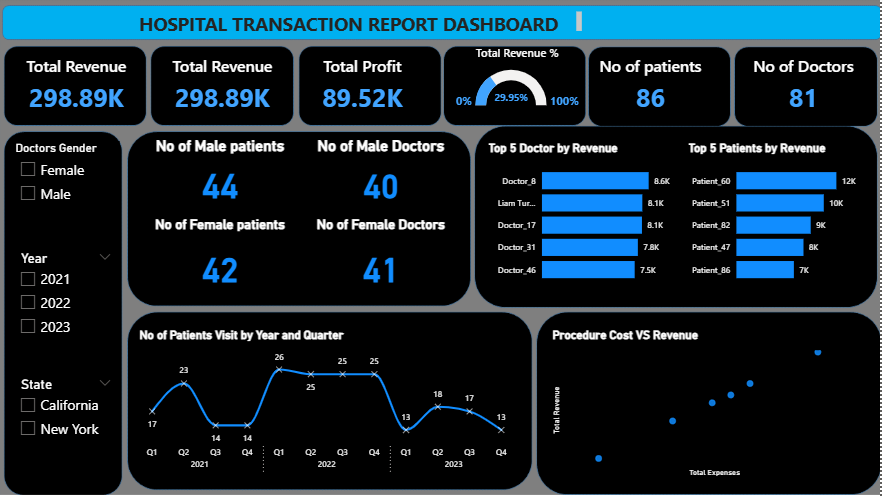

The page's visual inventory and layout, read from the dashboard file:
{"tool":"powerbi","page":{"name":"Page 2","canvas":[1280,720],"ordinal":1},"visuals":[{"type":"image","box":[10.5,0,1269.5,720.2],"z":0},{"type":"textbox","box":[207.5,15.7,647,41.9],"z":1000},{"type":"card","title":"Total Revenue","fields":{"Values":["doctors.Total Revenue"]},"box":[27.9,83.7,188.3,92.4],"z":2000},{"type":"card","title":"Total Expenses","fields":{"Values":["doctors.Total Expenses"]},"box":[237.2,83.7,188.3,92.4],"z":3000},{"type":"card","title":"Total Profit","fields":{"Values":["doctors.Total Profit"]},"box":[439.5,83.7,188.3,92.4],"z":4000},{"type":"gauge","title":"Profit Margin (%)","fields":{"Y":["doctors.Profit Margin %"]},"box":[657.4,69.8,197.1,106.4],"z":5000},{"type":"card","title":"Avg. Revenue per patients","fields":{"Values":["patients.Avg Revenue per Patient"]},"box":[869.8,83.5,188.6,92.2],"z":6000},{"type":"card","title":"Avg. Revenue per  Doctors","fields":{"Values":["doctors.Revenue per Doctor"]},"box":[1074.2,83.5,205.9,92.2],"z":7000},{"type":"barChart","title":"Top 5 Doctor by Revenue","fields":{"Category":["doctors.DoctorName"],"Y":["doctors.Total Revenue"]},"box":[709.8,207.5,275.5,216.2],"z":8000},{"type":"barChart","title":"Top 5 Patients by Revenue","fields":{"Y":["doctors.Total Revenue"],"Category":["patients.PatientName"]},"box":[997.5,207.5,265.1,216.2],"z":9000},{"type":"lineChart","title":"No of Patients Visit by Year and Quarter","fields":{"Category":["transactions.Year","transactions.Quarter"],"Y":["doctors.No of Transactions"]},"box":[207.5,476.1,549.3,218],"z":10000},{"type":"scatterChart","title":"Procedure Cost VS Revenue","fields":{"X":["doctors.Total Expenses"],"Y":["doctors.Total Revenue"],"Category":["procedures.ProcedureName"]},"box":[802.2,476.1,460.4,218],"z":11000},{"type":"card","title":"No of Female patients","fields":{"Values":["patients.Female Patients"]},"box":[216.9,315.6,222.1,121.7],"z":12000},{"type":"card","title":"No of Female Doctors","fields":{"Values":["doctors.Female Doctors"]},"box":[451.3,315.6,218.6,121.7],"z":13000},{"type":"card","title":"No of Male patients","fields":{"Values":["patients.Male Patients"]},"box":[216.9,201,222.1,107.5],"z":14000},{"type":"card","title":"No of Male Doctors","fields":{"Values":["doctors.Male Doctors"]},"box":[451.3,201,218.6,107.5],"z":15000},{"type":"slicer","title":"Doctors Gender","fields":{"Values":["doctors.Gender"]},"box":[28.2,208,155.2,107.5],"z":16000},{"type":"slicer","title":"Doctors Gender","fields":{"Values":["transactions.Year"]},"box":[28.2,359.7,155.2,153.4],"z":17000},{"type":"slicer","title":"Doctors Gender","fields":{"Values":["patients.State"]},"box":[28.2,541.3,155.2,153.4],"z":18000}]}

Visuals, with their boxes in screenshot pixels (x1, y1, x2, y2), scaled from the page's 1280x720 canvas onto the 883x497 screenshot:
image: bbox(7, 0, 882, 496)
textbox: bbox(143, 11, 589, 40)
"Total Revenue" card: bbox(19, 58, 149, 122)
"Total Expenses" card: bbox(164, 58, 294, 122)
"Total Profit" card: bbox(303, 58, 433, 122)
"Profit Margin (%)" gauge: bbox(454, 48, 589, 122)
"Avg. Revenue per patients" card: bbox(600, 58, 730, 121)
"Avg. Revenue per  Doctors" card: bbox(741, 58, 882, 121)
"Top 5 Doctor by Revenue" barChart: bbox(490, 143, 680, 292)
"Top 5 Patients by Revenue" barChart: bbox(688, 143, 871, 292)
"No of Patients Visit by Year and Quarter" lineChart: bbox(143, 329, 522, 479)
"Procedure Cost VS Revenue" scatterChart: bbox(553, 329, 871, 479)
"No of Female patients" card: bbox(150, 218, 303, 302)
"No of Female Doctors" card: bbox(311, 218, 462, 302)
"No of Male patients" card: bbox(150, 139, 303, 213)
"No of Male Doctors" card: bbox(311, 139, 462, 213)
"Doctors Gender" slicer: bbox(19, 144, 127, 218)
"Doctors Gender" slicer: bbox(19, 248, 127, 354)
"Doctors Gender" slicer: bbox(19, 374, 127, 480)
